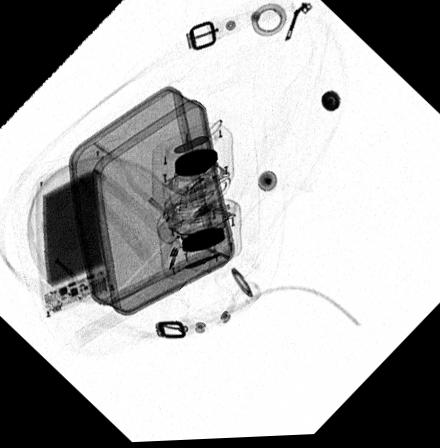Powerbank: (36, 150, 116, 320)
